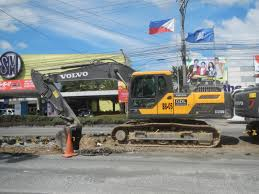excavator: (31, 62, 233, 156)
